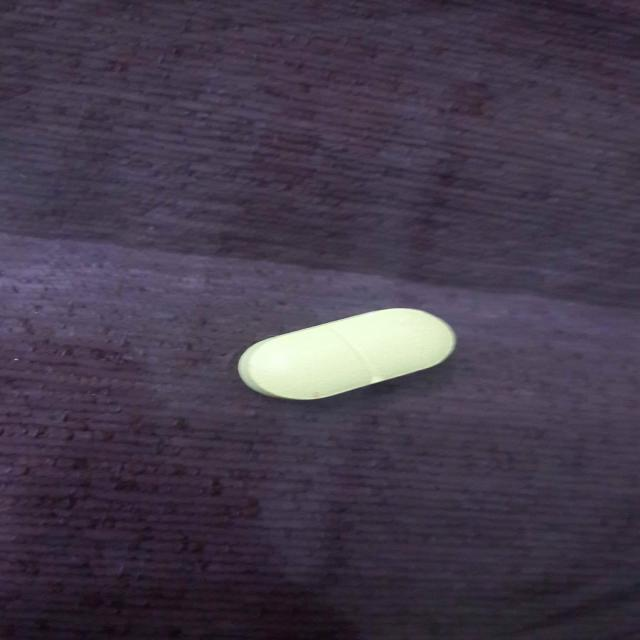pills: (214, 302, 478, 404)
